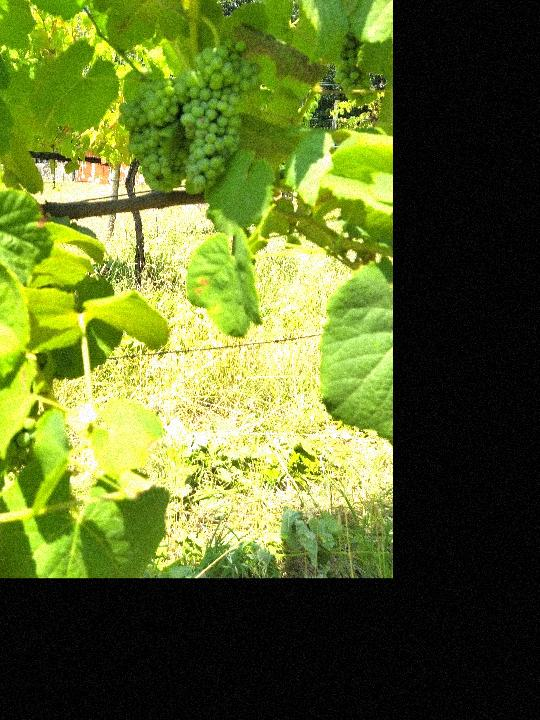grape: (179, 36, 262, 196), (116, 81, 191, 195)
